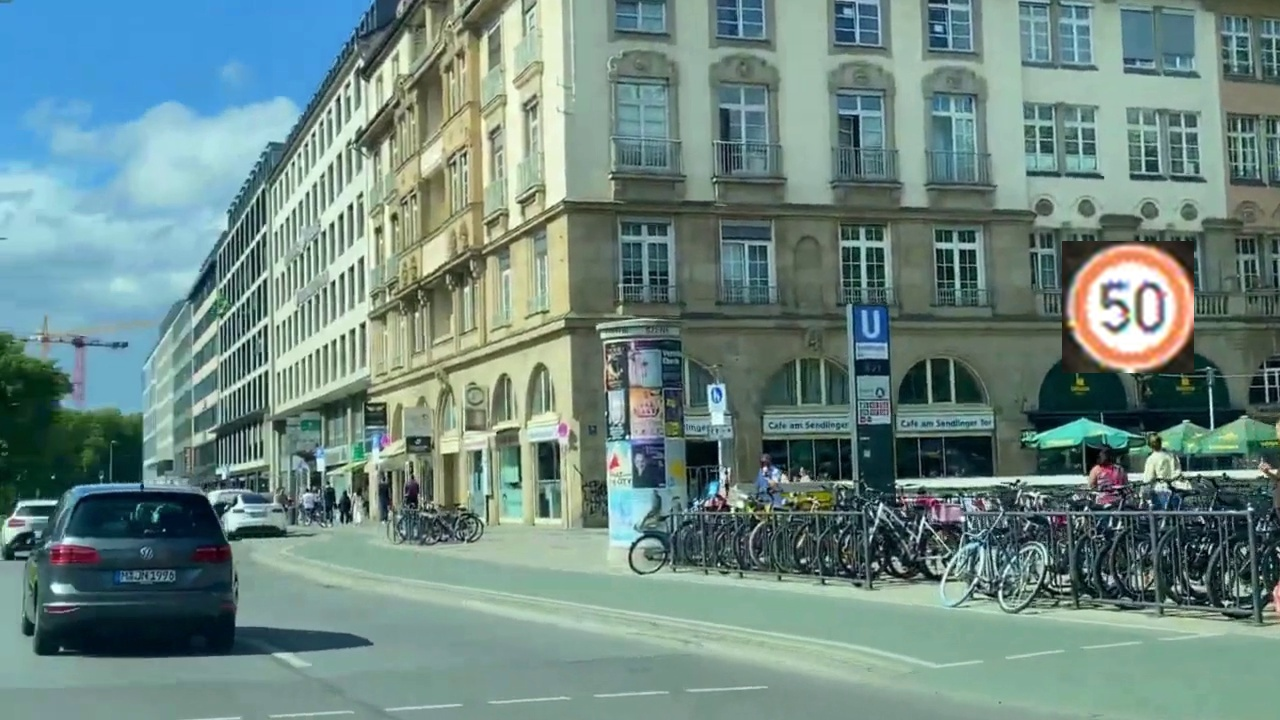Speed 50: (1062, 241, 1194, 373)
